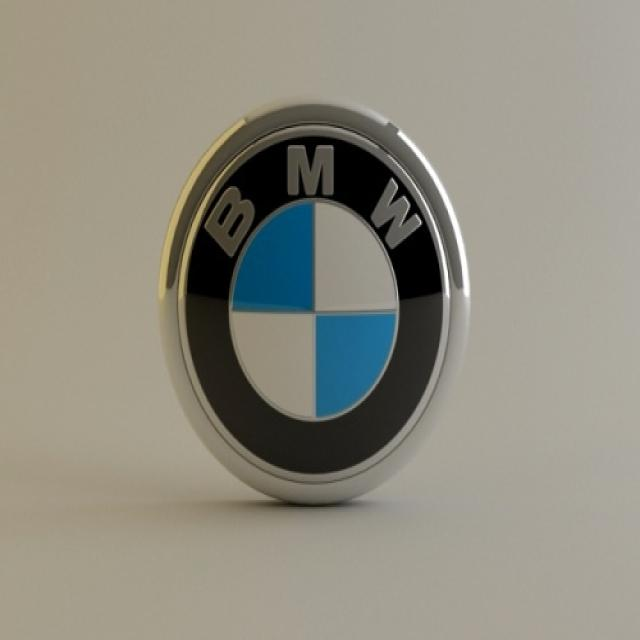bmw: (159, 100, 475, 510)
